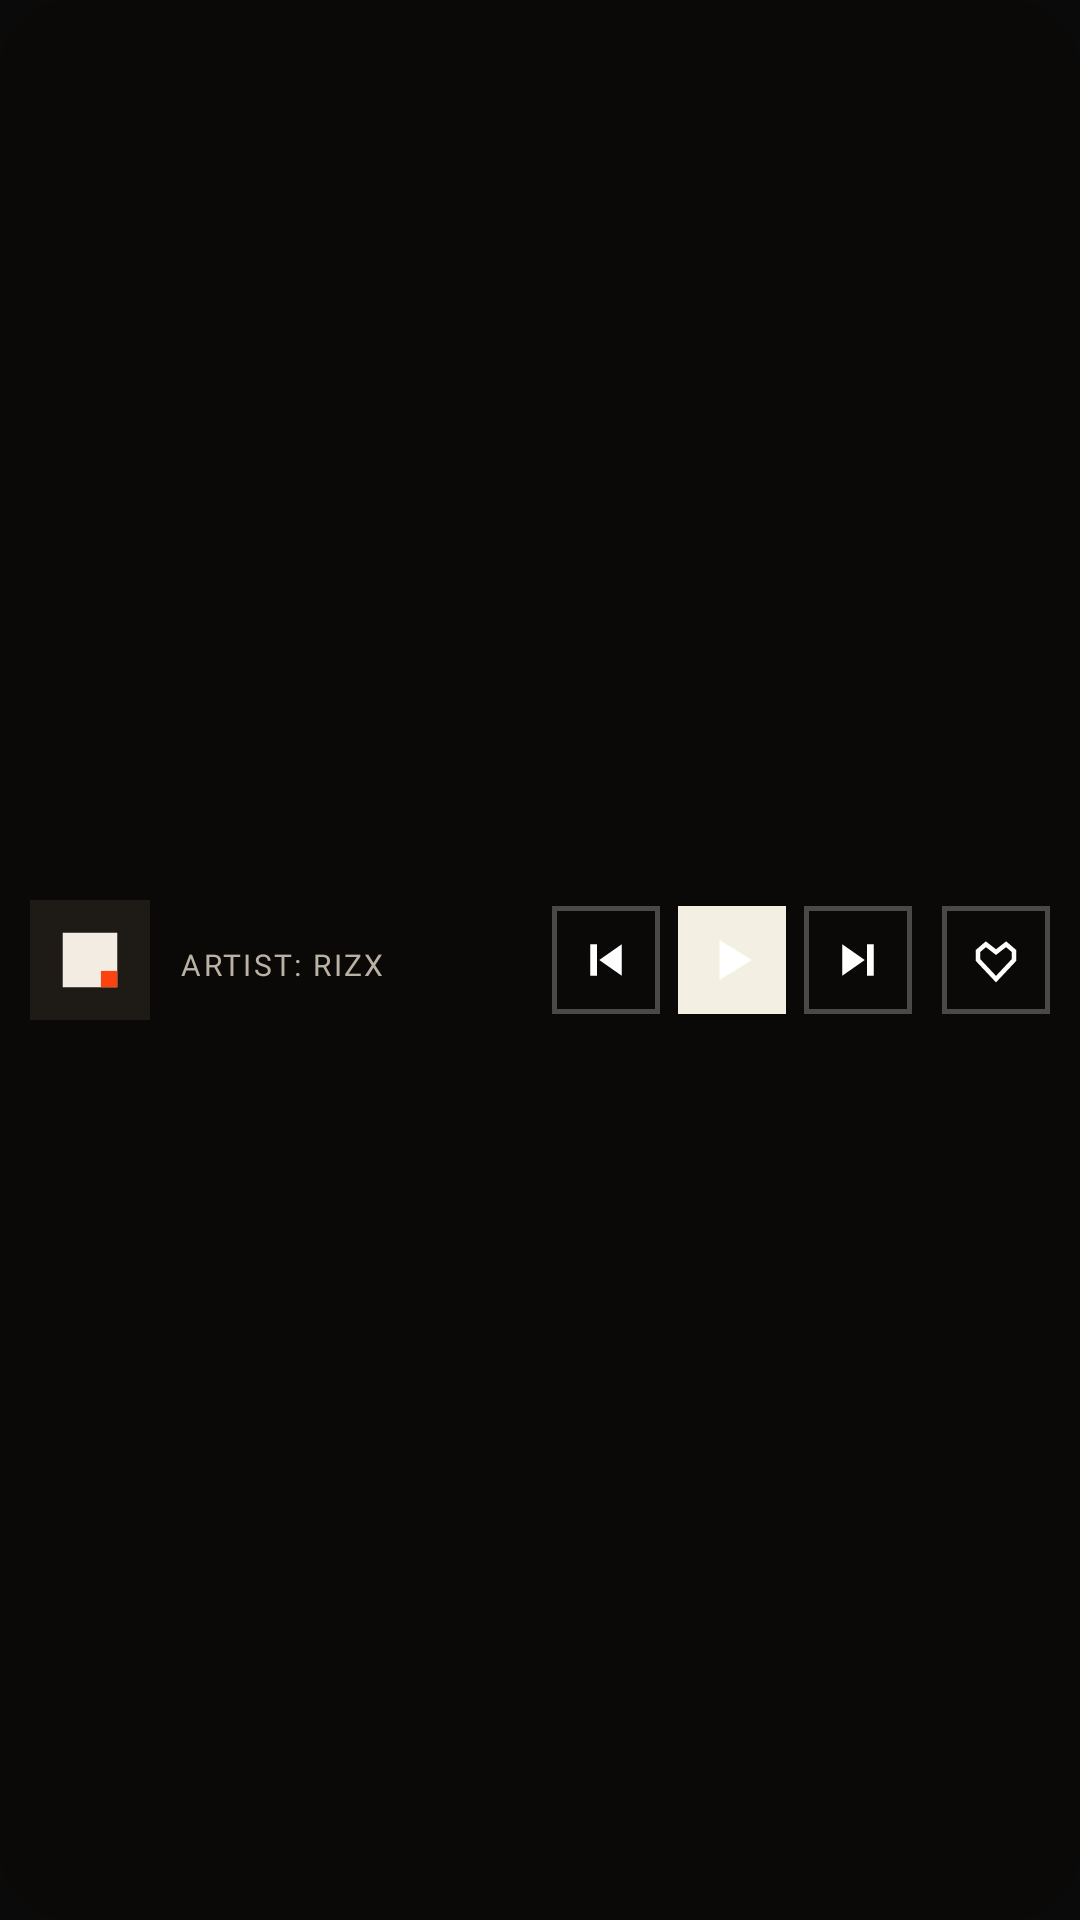

Named icons in this screenshot (1080*1920) and their centers, (x,y):
Like: (996,960)
Next: (858,960)
Play: (732,960)
Previous: (606,960)
